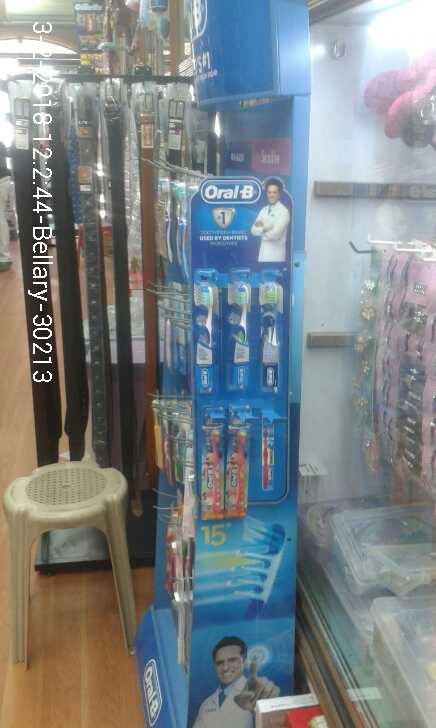oralb: (224, 280, 254, 386), (196, 417, 224, 525), (260, 280, 282, 394), (196, 277, 215, 393), (233, 416, 253, 519)
